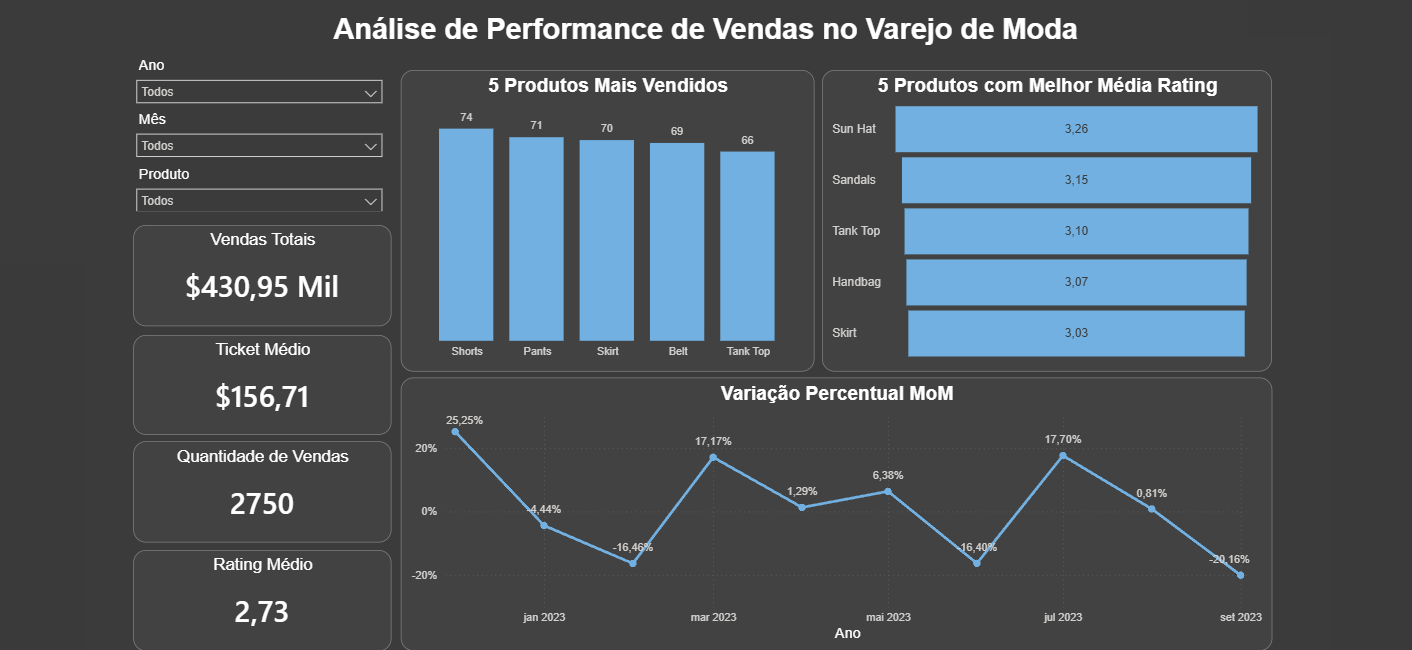

This screenshot's page, from the dashboard's own definition file:
{"tool":"powerbi","page":{"name":"Página 1","canvas":[1280,720],"ordinal":0},"visuals":[{"type":"cardVisual","title":"Vendas Totais","fields":{"Data":["Medidas.ValorTotalCompra"]},"box":[8.1,248.7,284.6,111.3],"z":0},{"type":"cardVisual","title":"Rating Médio","fields":{"Data":["Medidas.MediaRating"]},"box":[8.1,608.7,284.6,111.3],"z":1000},{"type":"cardVisual","title":"Quantidade de Vendas","fields":{"Data":["Medidas.TotalCompras"]},"box":[8.1,489.3,284.6,111.3],"z":2000},{"type":"columnChart","title":"5 Produtos Mais Vendidos","fields":{"Category":["Fashion_Retail_Sales.Item Purchased"],"Y":["Medidas.Quantidade de Vendas"]},"box":[302.5,77.5,457.5,333.8],"z":3000},{"type":"lineChart","title":"Variação Percentual MoM","fields":{"Category":["Fashion_Retail_Sales.Date Purchase.Variation.Hierarquia de datas.Ano","Fashion_Retail_Sales.Date Purchase.Variation.Hierarquia de datas.Mês"],"Y":["Medidas.Quantidade de Vendas MoM%"]},"box":[302.5,417.5,963.8,302.5],"z":4000},{"type":"funnel","title":"5 Produtos com Melhor Média Rating","fields":{"Category":["Fashion_Retail_Sales.Item Purchased"],"Y":["Medidas.MediaRating"]},"box":[768.8,77.5,497.5,333.8],"z":5000},{"type":"textbox","box":[0,10,1280,47.8],"z":6000},{"type":"cardVisual","title":"Ticket Médio","fields":{"Data":["Medidas.TicketMedio"]},"box":[8.1,369,284.6,111.3],"z":7000},{"type":"slicer","fields":{"Values":["Fashion_Retail_Sales.Date Purchase.Variation.Hierarquia de datas.Ano"]},"box":[0,57.8,292.2,60],"z":8000},{"type":"slicer","fields":{"Values":["Fashion_Retail_Sales.Date Purchase.Variation.Hierarquia de datas.Mês"]},"box":[0,117.8,292.2,61.1],"z":9000},{"type":"slicer","fields":{"Values":["Fashion_Retail_Sales.Item Purchased"]},"box":[0,178.9,292.2,55.6],"z":10000}]}

Visuals, with their boxes in screenshot pixels (x1, y1, x2, y2):
"Vendas Totais" cardVisual: <bbox>250, 243, 494, 339</bbox>
"Rating Médio" cardVisual: <bbox>250, 553, 494, 649</bbox>
"Quantidade de Vendas" cardVisual: <bbox>250, 450, 494, 546</bbox>
"5 Produtos Mais Vendidos" columnChart: <bbox>503, 96, 896, 383</bbox>
"Variação Percentual MoM" lineChart: <bbox>503, 388, 1332, 649</bbox>
"5 Produtos com Melhor Média Rating" funnel: <bbox>904, 96, 1332, 383</bbox>
textbox: <bbox>243, 38, 1343, 79</bbox>
"Ticket Médio" cardVisual: <bbox>250, 347, 494, 442</bbox>
slicer - Fashion_Retail_Sales.Date Purchase.Variation.Hierarquia de datas.Ano: <bbox>243, 79, 494, 131</bbox>
slicer - Fashion_Retail_Sales.Date Purchase.Variation.Hierarquia de datas.Mês: <bbox>243, 131, 494, 183</bbox>
slicer - Fashion_Retail_Sales.Item Purchased: <bbox>243, 183, 494, 231</bbox>
